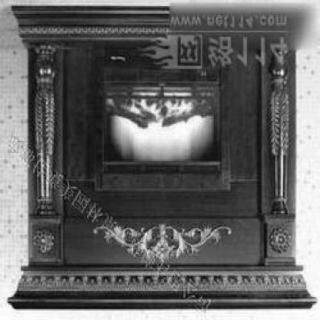Fire: (103, 93, 213, 165)
